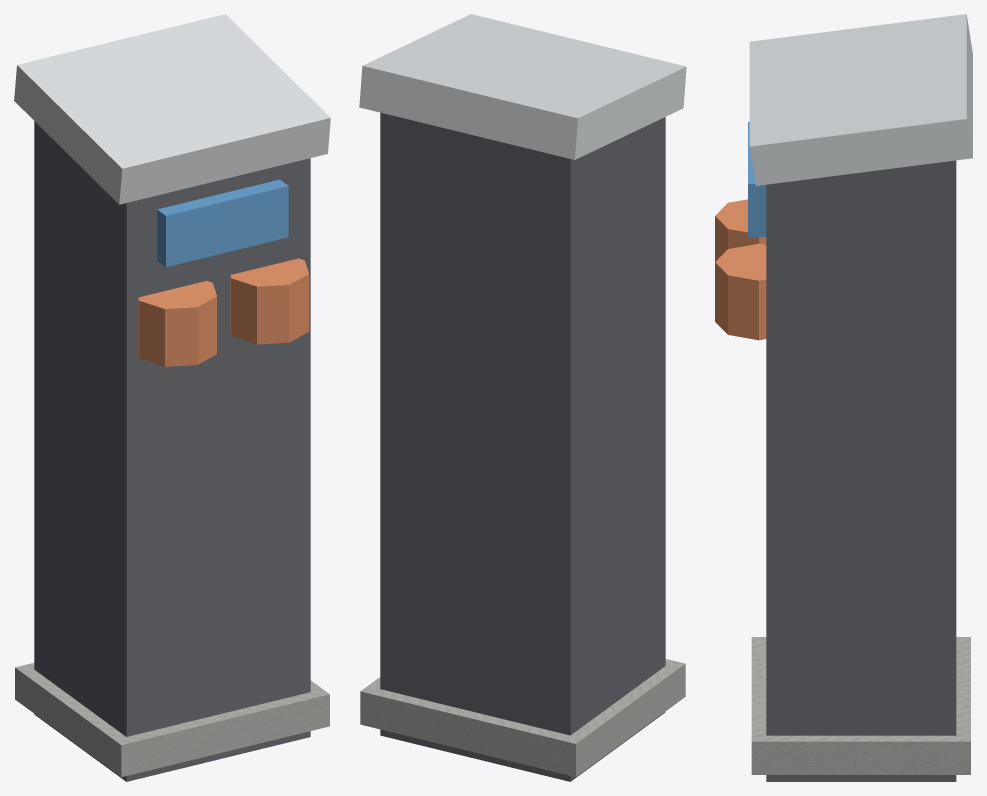
The model's file is caravan-park-and-campsite-electric-hook-up-bollard-649c4b9b__35359.glb.
3 renders of one model, left to right at view 1: azimuth 30°, elevation 25°; view 2: azimuth 150°, elevation 25°; view 3: azimuth 270°, elevation 25°, orthographic. The views are drawn at different scales.
Visible parts, largest first — view 1: electric-hook-up-bollard-charcoal, electric-hook-up-bollard-galv, electric-hook-up-bollard-hard, electric-hook-up-bollard-flame, electric-hook-up-bollard-azure; view 2: electric-hook-up-bollard-charcoal, electric-hook-up-bollard-galv, electric-hook-up-bollard-hard; view 3: electric-hook-up-bollard-charcoal, electric-hook-up-bollard-galv, electric-hook-up-bollard-hard, electric-hook-up-bollard-flame, electric-hook-up-bollard-azure.
Part boxes in pixels (bbox=[...]): electric-hook-up-bollard-charcoal: bbox=[34, 121, 310, 781]; electric-hook-up-bollard-galv: bbox=[14, 14, 330, 204]; electric-hook-up-bollard-hard: bbox=[15, 663, 329, 777]; electric-hook-up-bollard-flame: bbox=[138, 258, 309, 366]; electric-hook-up-bollard-azure: bbox=[157, 179, 288, 267]; electric-hook-up-bollard-charcoal: bbox=[380, 112, 665, 781]; electric-hook-up-bollard-galv: bbox=[359, 14, 686, 159]; electric-hook-up-bollard-hard: bbox=[360, 659, 685, 776]; electric-hook-up-bollard-charcoal: bbox=[766, 160, 956, 781]; electric-hook-up-bollard-galv: bbox=[749, 14, 972, 185]; electric-hook-up-bollard-hard: bbox=[751, 637, 970, 774]; electric-hook-up-bollard-flame: bbox=[715, 199, 766, 340]; electric-hook-up-bollard-azure: bbox=[748, 122, 766, 236].
Size of the model in its own units: 0.34 by 1.01 by 0.3527.
5 materials, 1 textured.
